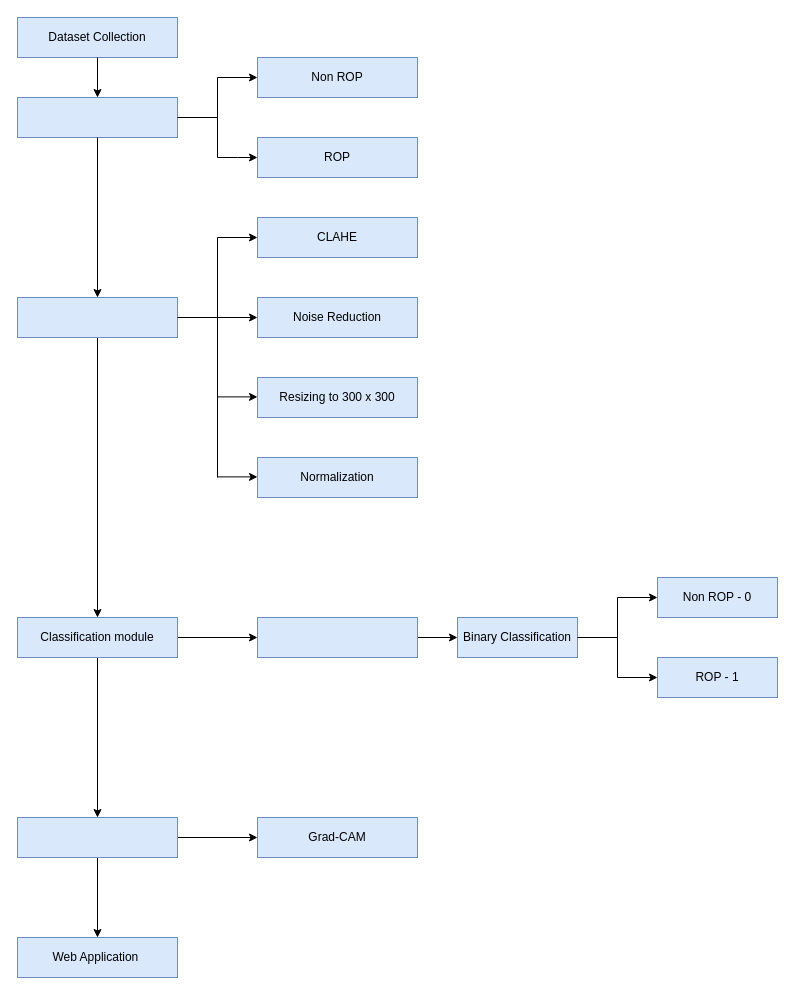
This 795x995 diagram has some shape labels left out. The centre of each missing label's shape, as x and y in pixels:
Dataset Classification: (97,117)
EfficientNet-B3: (337,637)
Explainable AI: (97,837)
Image Enhancement: (97,317)
